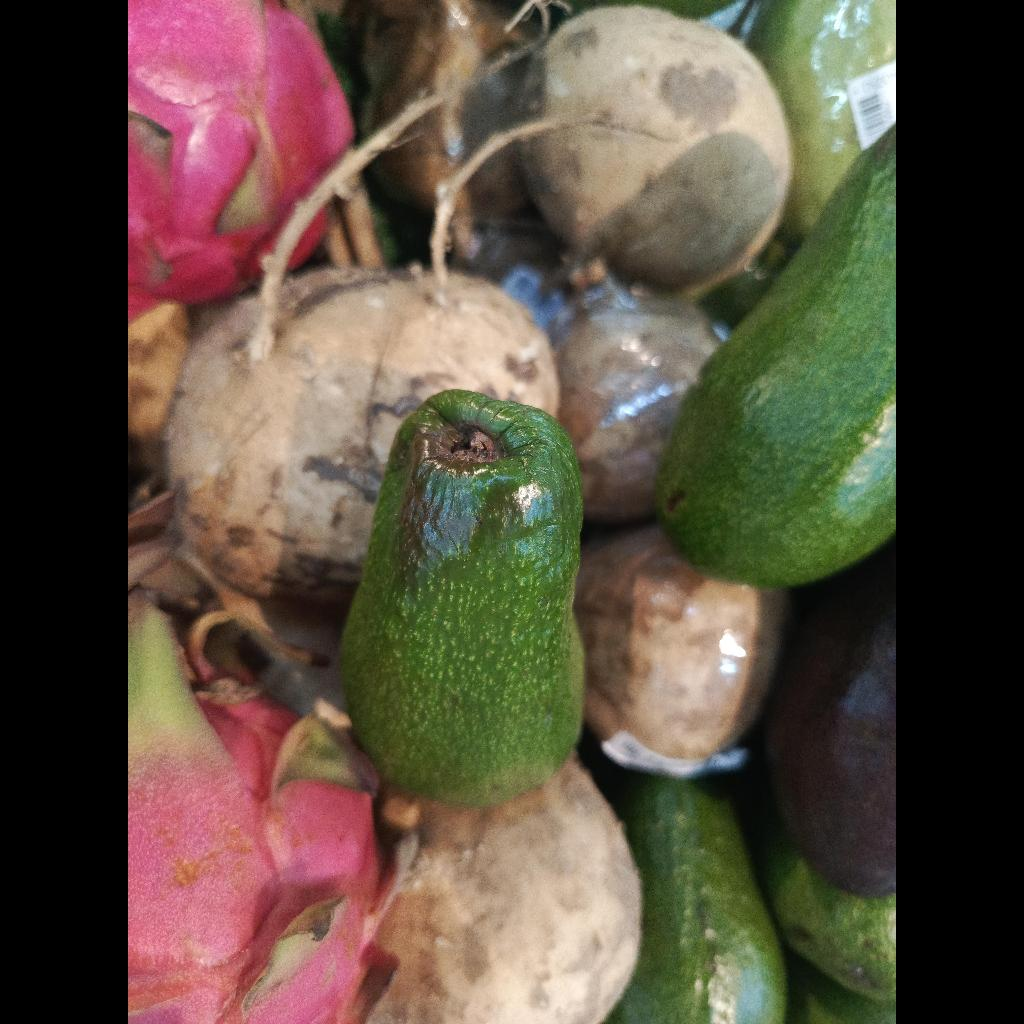stem end rot: (341, 390, 584, 806)
